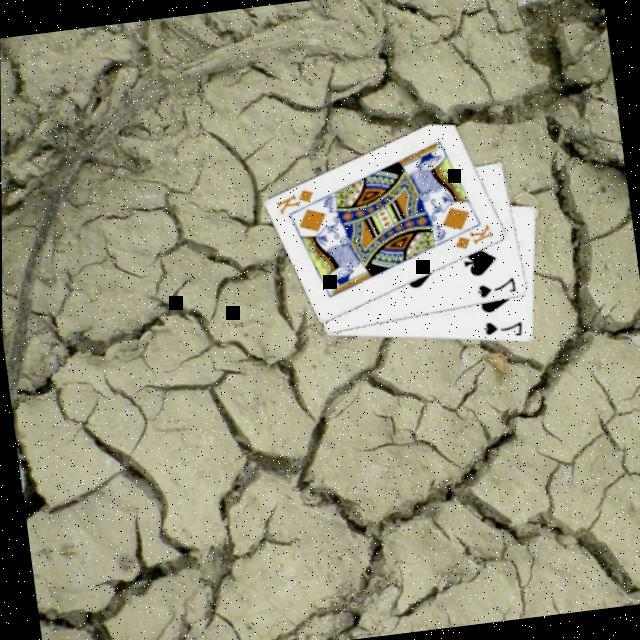7S: (481, 316, 527, 344), (475, 275, 521, 302)
KD: (452, 220, 499, 253), (273, 185, 320, 218)
